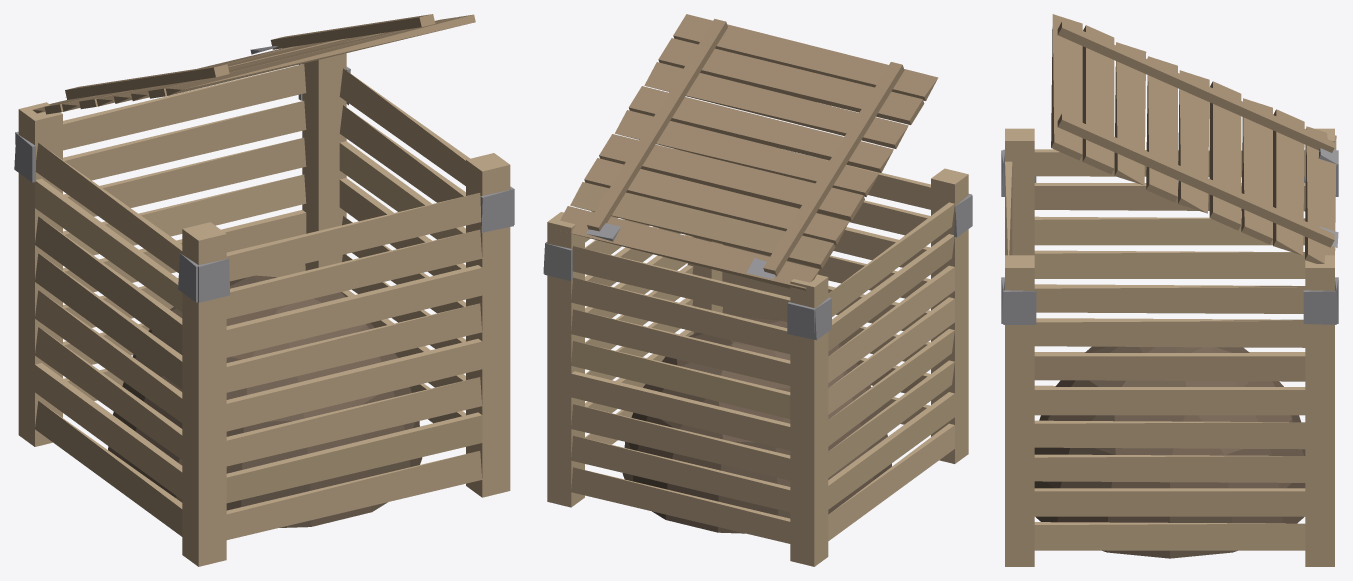
The model's file is 33-Agricultura_compostera.glb.
The picture shows the model from 3 angles, left to right: view 1: azimuth 30°, elevation 25°; view 2: azimuth 150°, elevation 25°; view 3: azimuth 270°, elevation 25°; orthographic projection. The views are drawn at different scales.
Visible parts, largest first — view 1: SM_Compostera_M_Compostera_Madera, SM_Compostera_M_Compostera_Compost, SM_Compostera_M_Compostera_Madera_Compostera_Tapa_Compostera, SM_Compostera_M_Compostera_Hierro; view 2: SM_Compostera_M_Compostera_Madera, SM_Compostera_M_Compostera_Madera_Compostera_Tapa_Compostera, SM_Compostera_M_Compostera_Compost, SM_Compostera_M_Compostera_Hierro; view 3: SM_Compostera_M_Compostera_Madera, SM_Compostera_M_Compostera_Madera_Compostera_Tapa_Compostera, SM_Compostera_M_Compostera_Compost, SM_Compostera_M_Compostera_Hierro.
Part boxes in pixels (<box>): SM_Compostera_M_Compostera_Madera: <box>18,53,510,566</box>; SM_Compostera_M_Compostera_Compost: <box>108,275,422,527</box>; SM_Compostera_M_Compostera_Madera_Compostera_Tapa_Compostera: <box>33,14,475,114</box>; SM_Compostera_M_Compostera_Hierro: <box>14,64,514,302</box>; SM_Compostera_M_Compostera_Madera: <box>547,148,968,566</box>; SM_Compostera_M_Compostera_Madera_Compostera_Tapa_Compostera: <box>560,14,938,290</box>; SM_Compostera_M_Compostera_Compost: <box>622,317,891,533</box>; SM_Compostera_M_Compostera_Hierro: <box>543,194,972,340</box>; SM_Compostera_M_Compostera_Madera: <box>1005,128,1334,566</box>; SM_Compostera_M_Compostera_Madera_Compostera_Tapa_Compostera: <box>1051,14,1338,263</box>; SM_Compostera_M_Compostera_Compost: <box>1034,346,1305,558</box>; SM_Compostera_M_Compostera_Hierro: <box>1001,149,1338,324</box>.
Size of the model in its own units: 1.02 by 1.43 by 1.02.
